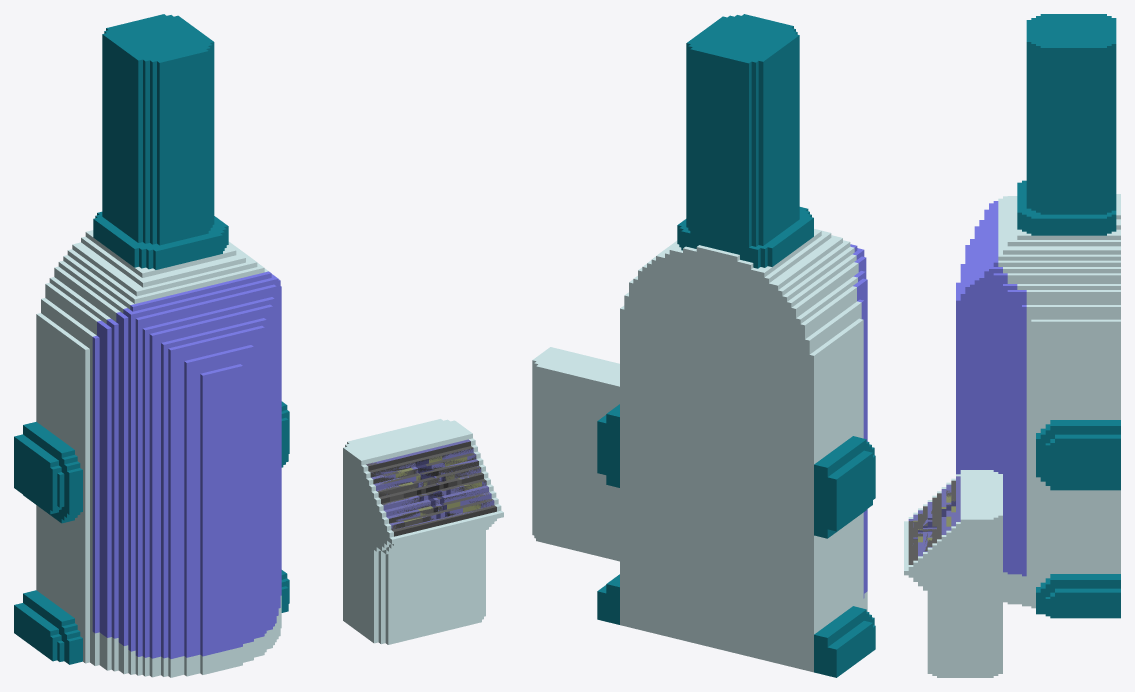
The model's file is Sleep_Device1-1.fbx.
3 renders of one model, left to right at view 1: azimuth 30°, elevation 25°; view 2: azimuth 150°, elevation 25°; view 3: azimuth 270°, elevation 25°, orthographic. The views are drawn at different scales.
Parts seen in each view (by area): view 1: Sleep Device1-1.001, Sleep Device1-1.000, Sleep Device1-1.003, Sleep Device1-1.004, Sleep Device1-1.006, Sleep Device1-1.005, Sleep Device1-1.002; view 2: Sleep Device1-1.000, Sleep Device1-1.003, Sleep Device1-1.004, Sleep Device1-1.001; view 3: Sleep Device1-1.000, Sleep Device1-1.001, Sleep Device1-1.003, Sleep Device1-1.004, Sleep Device1-1.006, Sleep Device1-1.002.
Part boxes in pixels (x1,y1,x2,y2): Sleep Device1-1.001: (92, 271, 281, 658); Sleep Device1-1.000: (14, 211, 289, 677); Sleep Device1-1.003: (102, 14, 214, 245); Sleep Device1-1.004: (343, 419, 503, 644); Sleep Device1-1.006: (367, 439, 494, 529); Sleep Device1-1.005: (368, 441, 496, 536); Sleep Device1-1.002: (366, 446, 496, 531); Sleep Device1-1.000: (597, 207, 875, 677); Sleep Device1-1.003: (686, 14, 799, 247); Sleep Device1-1.004: (532, 347, 619, 561); Sleep Device1-1.001: (850, 244, 867, 598); Sleep Device1-1.000: (998, 180, 1120, 618); Sleep Device1-1.001: (956, 201, 1026, 576); Sleep Device1-1.003: (1026, 14, 1116, 214); Sleep Device1-1.004: (904, 470, 1002, 677); Sleep Device1-1.006: (908, 476, 960, 556); Sleep Device1-1.002: (908, 480, 955, 564).
Size of the model in its own units: 8.3 by 12.5 by 4.6.
